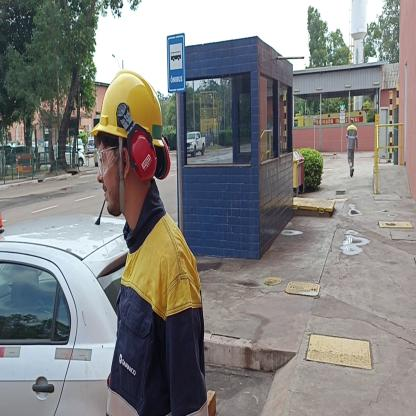C_eletrica: (114, 237, 206, 412)
Capacete: (98, 74, 166, 144)
